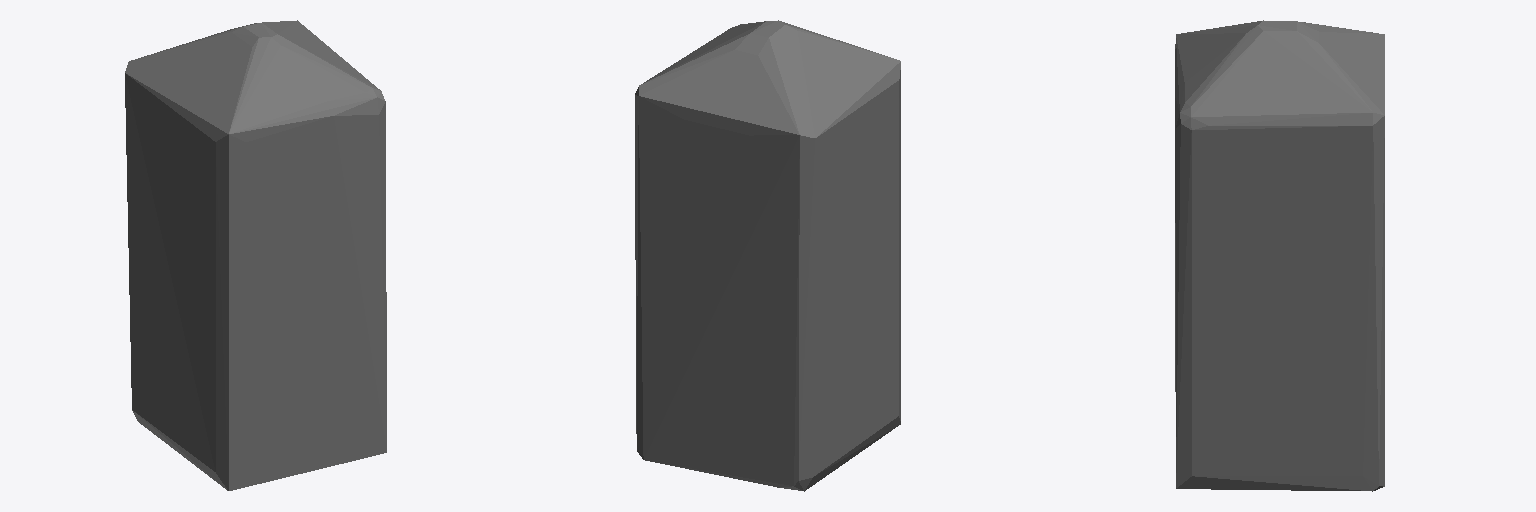
The robot description file, URDF, robot "tetra_pak_008":
<?xml version="1.0" ?>
<robot name="tetra_pak_008">
  <material name="color">
    <color rgba=".5 .5 .5 1"/>
  </material>

  <link name="base_link">
    <contact>
      <lateral_friction value="1.0"/>
      <rolling_friction value="0.001"/>
      <spinning_friction value="0.001"/>
      <inertia_scaling value="1.0"/>
    </contact>
    <inertial>
      <origin rpy="0 0 0" xyz="2.7432e-05 2.79019e-05 -0.0119832"/>
       <mass value="0.1"/>
       <inertia ixx="1" ixy="0" ixz="0" iyy="1" iyz="0" izz="1"/>
    </inertial>

    <visual>
      <origin rpy="0 0 0" xyz="0 0 0"/>
      <geometry>
        <mesh filename="tetra_pak_008_vhacd_0_of_1.obj" scale="1 1 1"/>
      </geometry>
      <material name="color"/>
    </visual>

    <collision>
      <origin rpy="0 0 0" xyz="0 0 0"/>
      <geometry>
        <mesh filename="tetra_pak_008_vhacd_0_of_1.obj" scale="1 1 1"/>
      </geometry>
    </collision>

  </link>
</robot>

--- Facts derived from the render (not from the file) ---
3 views of the same robot in one strip: view 1: azimuth 30°, elevation 25°; view 2: azimuth 150°, elevation 25°; view 3: azimuth 270°, elevation 25° (orthographic).
Robot: tetra_pak_008 — 1 links, 0 joints (none); root link base_link; default pose: all joints at 0.
Visible links, largest first — view 1: base_link; view 2: base_link; view 3: base_link.
Link boxes in pixels (x1=…): base_link: x1=125, y1=20, x2=386, y2=490; base_link: x1=635, y1=20, x2=900, y2=491; base_link: x1=1175, y1=20, x2=1384, y2=491.
Bounding box of the posed robot: 0.0724 × 0.071 × 0.1578 m (x, y, z).
1 mesh visuals loaded from 1 distinct referenced files (1 OBJ).